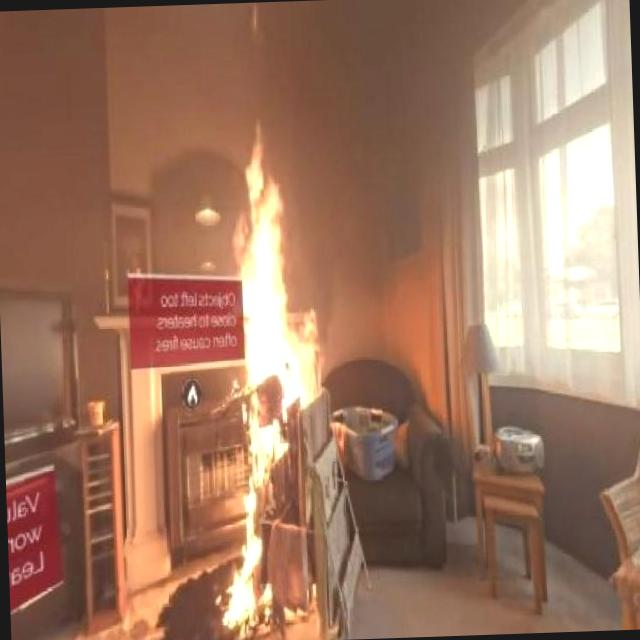fire: (232, 116, 327, 390)
